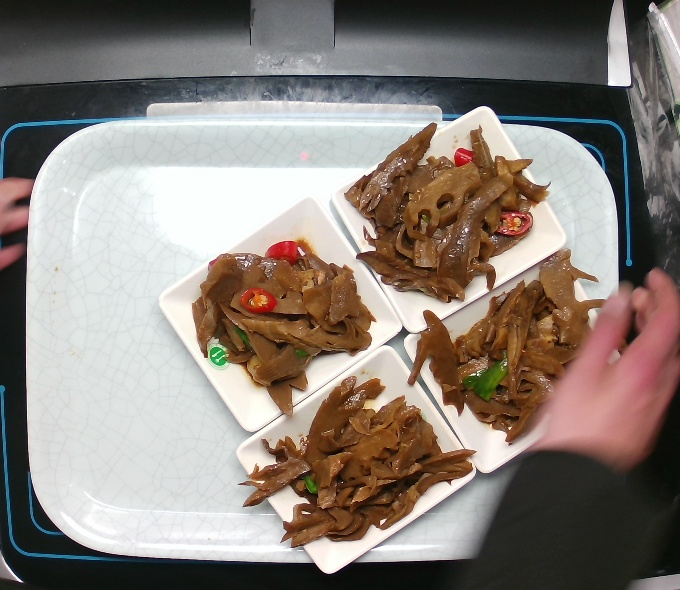wcq-SunGan: (411, 239, 605, 452), (343, 121, 556, 307), (242, 380, 469, 544), (184, 237, 381, 402)
